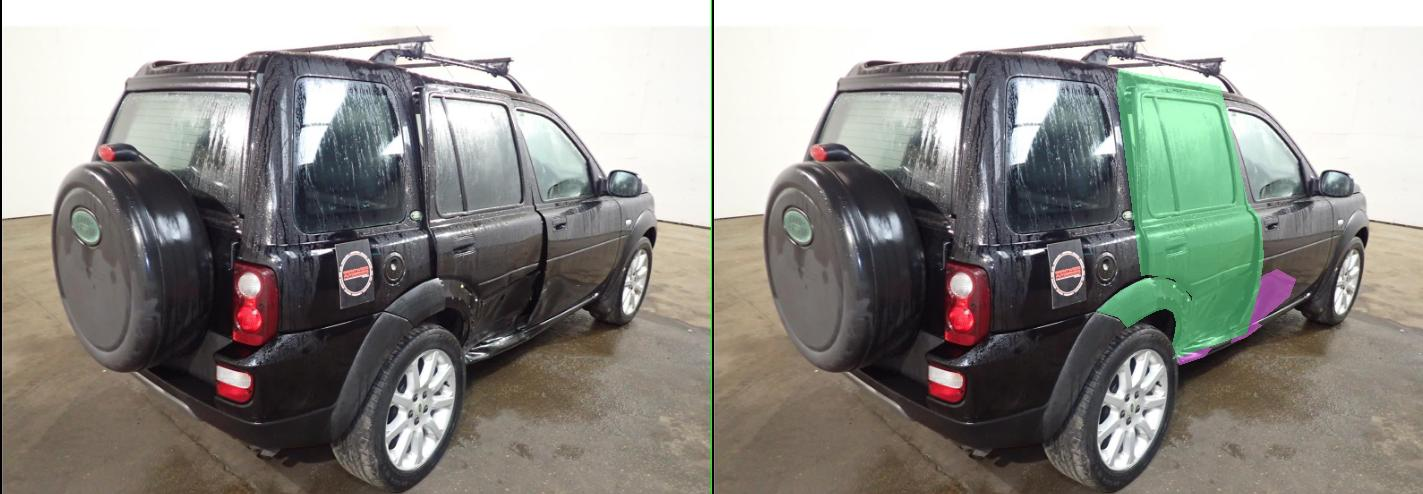Broken part: (811, 69, 1103, 358), (769, 277, 963, 354)
Dent: (945, 245, 1085, 346), (1049, 269, 1167, 330), (929, 346, 999, 364), (1039, 322, 1099, 342)
